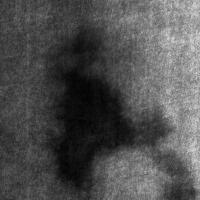patches: (47, 25, 141, 119), (58, 63, 130, 185), (137, 104, 189, 176)
